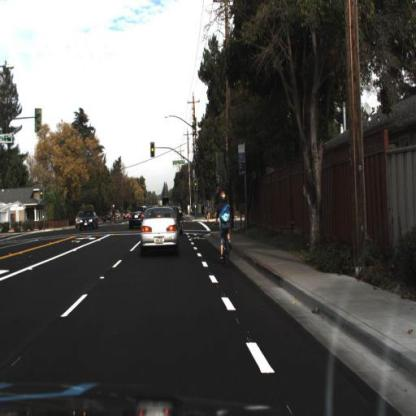biker: (212, 187, 237, 271), (107, 199, 120, 231)
car: (138, 206, 180, 253), (77, 208, 100, 235), (128, 203, 149, 231)
pedestrian: (202, 193, 214, 229)
trafficLight-Yellow: (149, 141, 158, 162), (38, 186, 46, 204), (193, 175, 201, 193)
